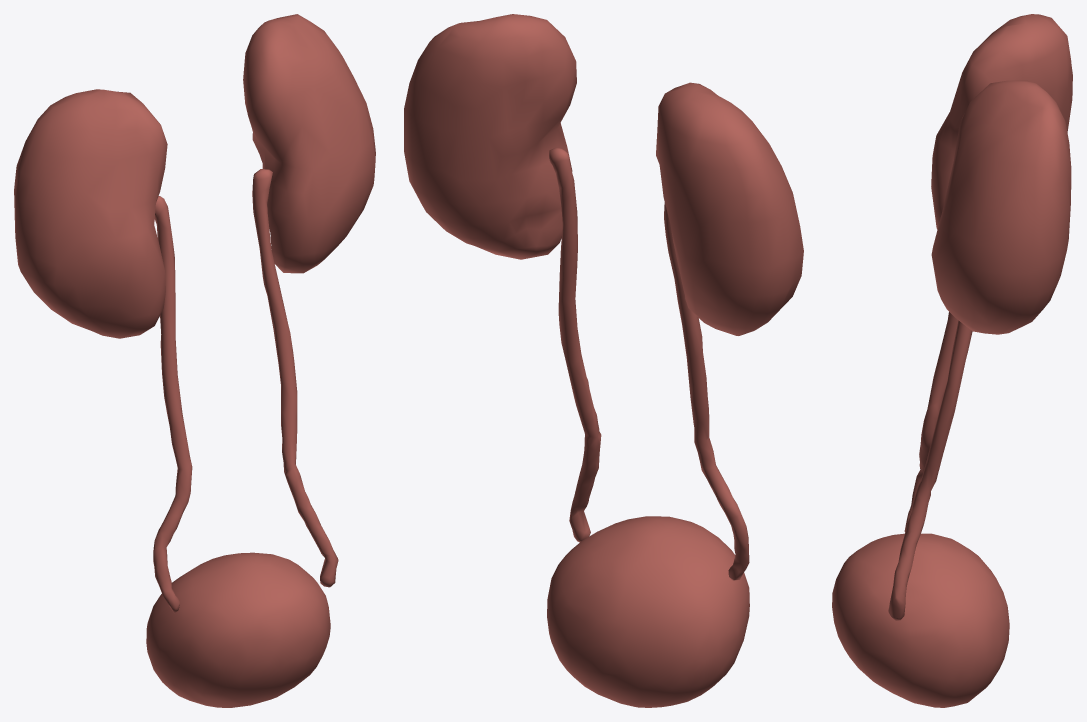
Rendered from pediatric_child_5y_male.urinary.LOD0.glb.
The picture shows the model from 3 angles, left to right: view 1: azimuth 30°, elevation 25°; view 2: azimuth 150°, elevation 25°; view 3: azimuth 270°, elevation 25°; orthographic projection. The views are drawn at different scales.
Parts seen in each view (by area): view 1: PEDIATRIC.CHILD_5Y.MALE.URINARY.KIDNEY_CORTEX.R, PEDIATRIC.CHILD_5Y.MALE.URINARY.KIDNEY_CORTEX.L, PEDIATRIC.CHILD_5Y.MALE.URINARY.URINARY_BLADDER_WALL, PEDIATRIC.CHILD_5Y.MALE.URINARY.URETER.L, PEDIATRIC.CHILD_5Y.MALE.URINARY.URETER.R; view 2: PEDIATRIC.CHILD_5Y.MALE.URINARY.KIDNEY_CORTEX.L, PEDIATRIC.CHILD_5Y.MALE.URINARY.URINARY_BLADDER_WALL, PEDIATRIC.CHILD_5Y.MALE.URINARY.KIDNEY_CORTEX.R, PEDIATRIC.CHILD_5Y.MALE.URINARY.URETER.L, PEDIATRIC.CHILD_5Y.MALE.URINARY.URETER.R; view 3: PEDIATRIC.CHILD_5Y.MALE.URINARY.KIDNEY_CORTEX.L, PEDIATRIC.CHILD_5Y.MALE.URINARY.URINARY_BLADDER_WALL, PEDIATRIC.CHILD_5Y.MALE.URINARY.KIDNEY_CORTEX.R, PEDIATRIC.CHILD_5Y.MALE.URINARY.URETER.L, PEDIATRIC.CHILD_5Y.MALE.URINARY.URETER.R.
Boxes of the visible parts, box(x1,y1,x2,y2) form: PEDIATRIC.CHILD_5Y.MALE.URINARY.KIDNEY_CORTEX.R: box(14, 89, 167, 338); PEDIATRIC.CHILD_5Y.MALE.URINARY.KIDNEY_CORTEX.L: box(243, 14, 375, 273); PEDIATRIC.CHILD_5Y.MALE.URINARY.URINARY_BLADDER_WALL: box(146, 552, 330, 707); PEDIATRIC.CHILD_5Y.MALE.URINARY.URETER.L: box(252, 169, 338, 587); PEDIATRIC.CHILD_5Y.MALE.URINARY.URETER.R: box(153, 196, 192, 613); PEDIATRIC.CHILD_5Y.MALE.URINARY.KIDNEY_CORTEX.L: box(404, 14, 576, 259); PEDIATRIC.CHILD_5Y.MALE.URINARY.URINARY_BLADDER_WALL: box(547, 516, 749, 707); PEDIATRIC.CHILD_5Y.MALE.URINARY.KIDNEY_CORTEX.R: box(656, 82, 803, 335); PEDIATRIC.CHILD_5Y.MALE.URINARY.URETER.L: box(549, 147, 601, 542); PEDIATRIC.CHILD_5Y.MALE.URINARY.URETER.R: box(664, 202, 749, 580); PEDIATRIC.CHILD_5Y.MALE.URINARY.KIDNEY_CORTEX.L: box(931, 80, 1071, 334); PEDIATRIC.CHILD_5Y.MALE.URINARY.URINARY_BLADDER_WALL: box(832, 533, 1009, 707); PEDIATRIC.CHILD_5Y.MALE.URINARY.KIDNEY_CORTEX.R: box(931, 14, 1072, 229); PEDIATRIC.CHILD_5Y.MALE.URINARY.URETER.L: box(888, 320, 972, 620); PEDIATRIC.CHILD_5Y.MALE.URINARY.URETER.R: box(904, 312, 958, 532).
Bounding box in the file's own units: 0.1233 × 0.2145 × 0.0713.
